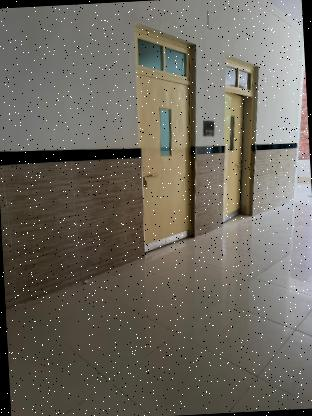door: (124, 15, 208, 259), (208, 49, 271, 232)
